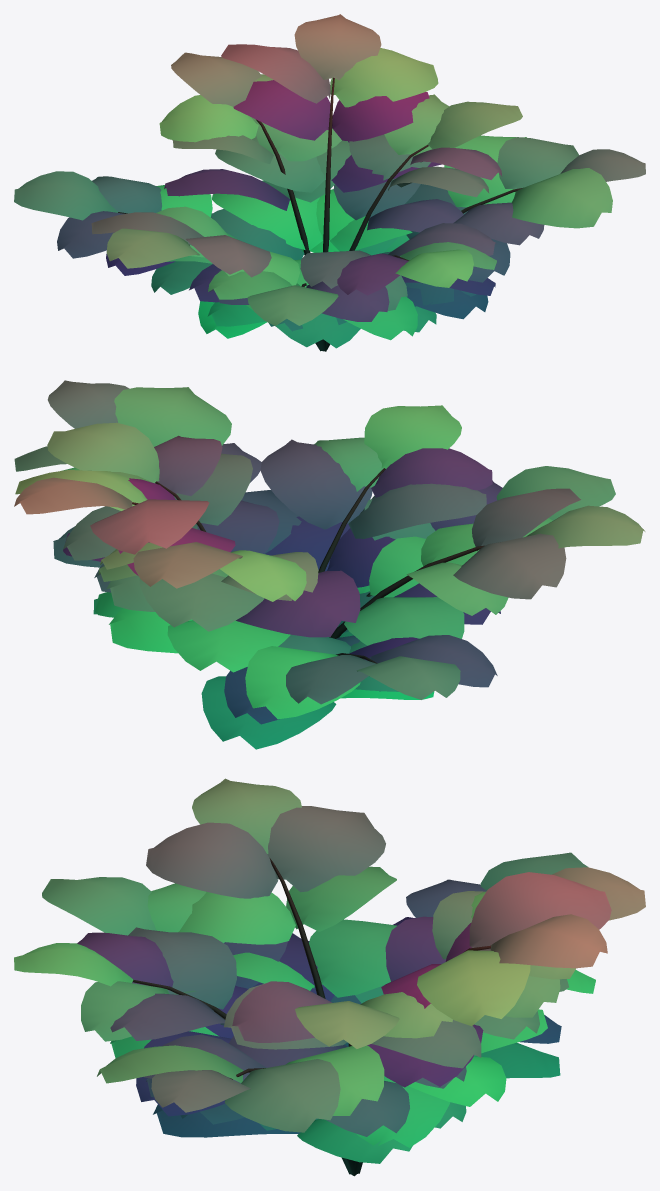
Rendered from RoundleafShrub_B.fbx.
3 views of the same model, one above another, from view 1: azimuth 30°, elevation 25°; view 2: azimuth 150°, elevation 25°; view 3: azimuth 270°, elevation 25° (orthographic). The views are drawn at different scales.
Visible parts, largest first — view 1: RoundleafShrub_B_LOD0; view 2: RoundleafShrub_B_LOD0; view 3: RoundleafShrub_B_LOD0.
Part boxes in pixels (x1=…): RoundleafShrub_B_LOD0: x1=14, y1=14, x2=645, y2=351; RoundleafShrub_B_LOD0: x1=14, y1=380, x2=645, y2=749; RoundleafShrub_B_LOD0: x1=14, y1=778, x2=645, y2=1176.
Size of what is drawn, in the model's own units: 1.58 by 0.7128 by 1.36.
